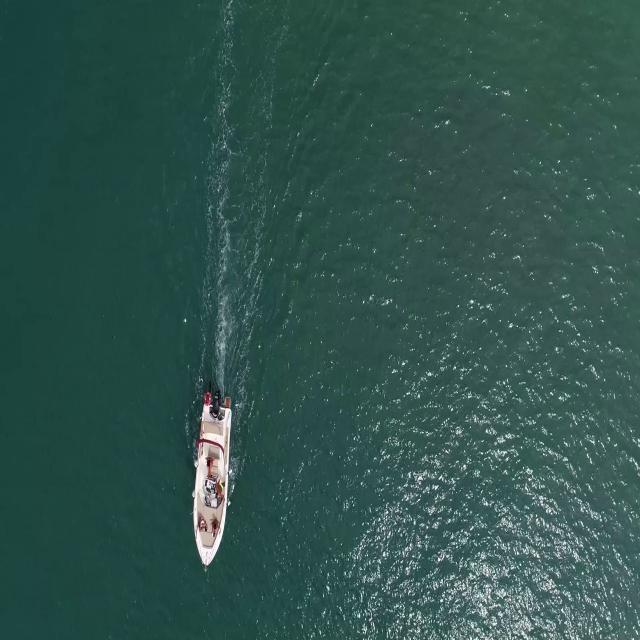boat: (190, 406, 233, 572)
life_buoy: (203, 392, 211, 405)
person: (195, 515, 208, 539), (214, 482, 227, 504), (204, 454, 214, 478), (211, 518, 220, 537)
